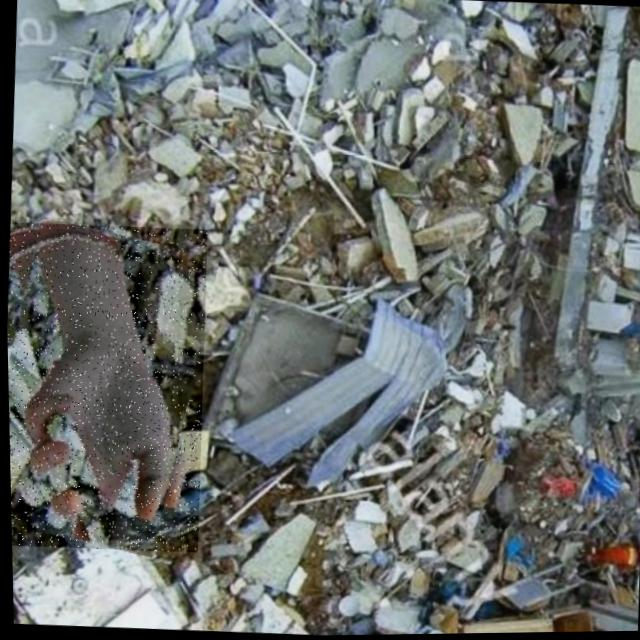Person in Rubble: (4, 220, 211, 555)
